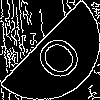O: (25, 25, 86, 85)
